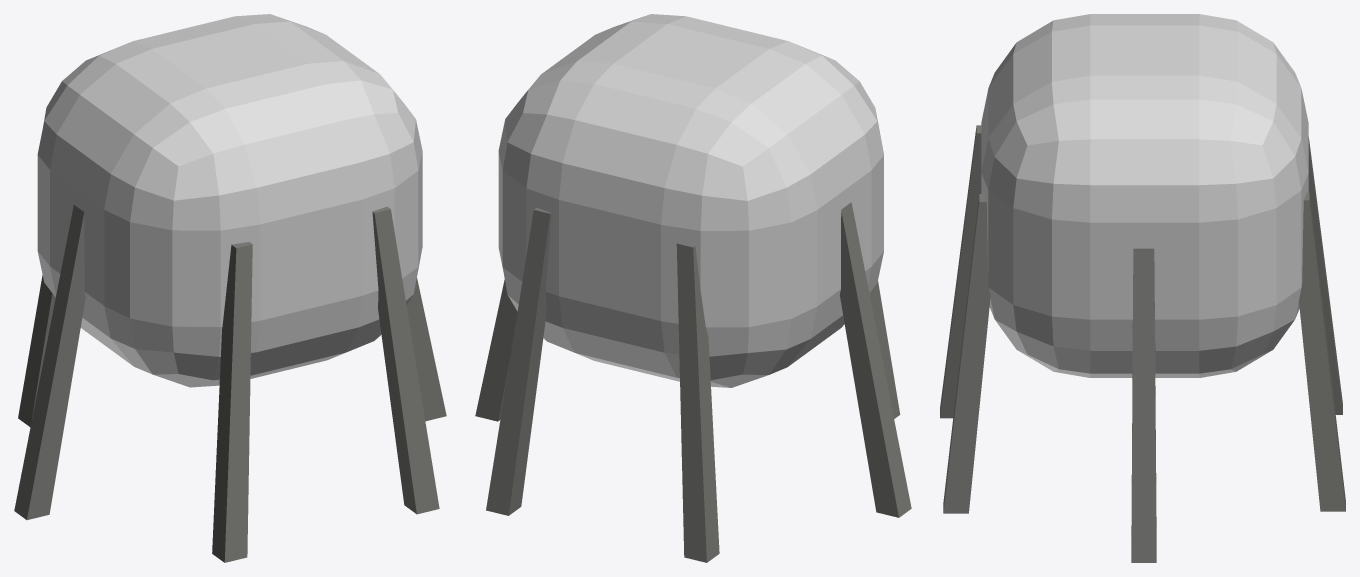
Rendered from Reactor1.fbx.
The picture shows the model from 3 angles, left to right: view 1: azimuth 30°, elevation 25°; view 2: azimuth 150°, elevation 25°; view 3: azimuth 270°, elevation 25°; orthographic projection.
Visible parts, largest first — view 1: Reactor; view 2: Reactor; view 3: Reactor.
Boxes of the visible parts, <box> form: Reactor: <box>14,14,446,562</box>; Reactor: <box>475,14,911,562</box>; Reactor: <box>940,14,1345,562</box>.
Bounding box in the file's own units: 44.18 × 40.68 × 36.55.
